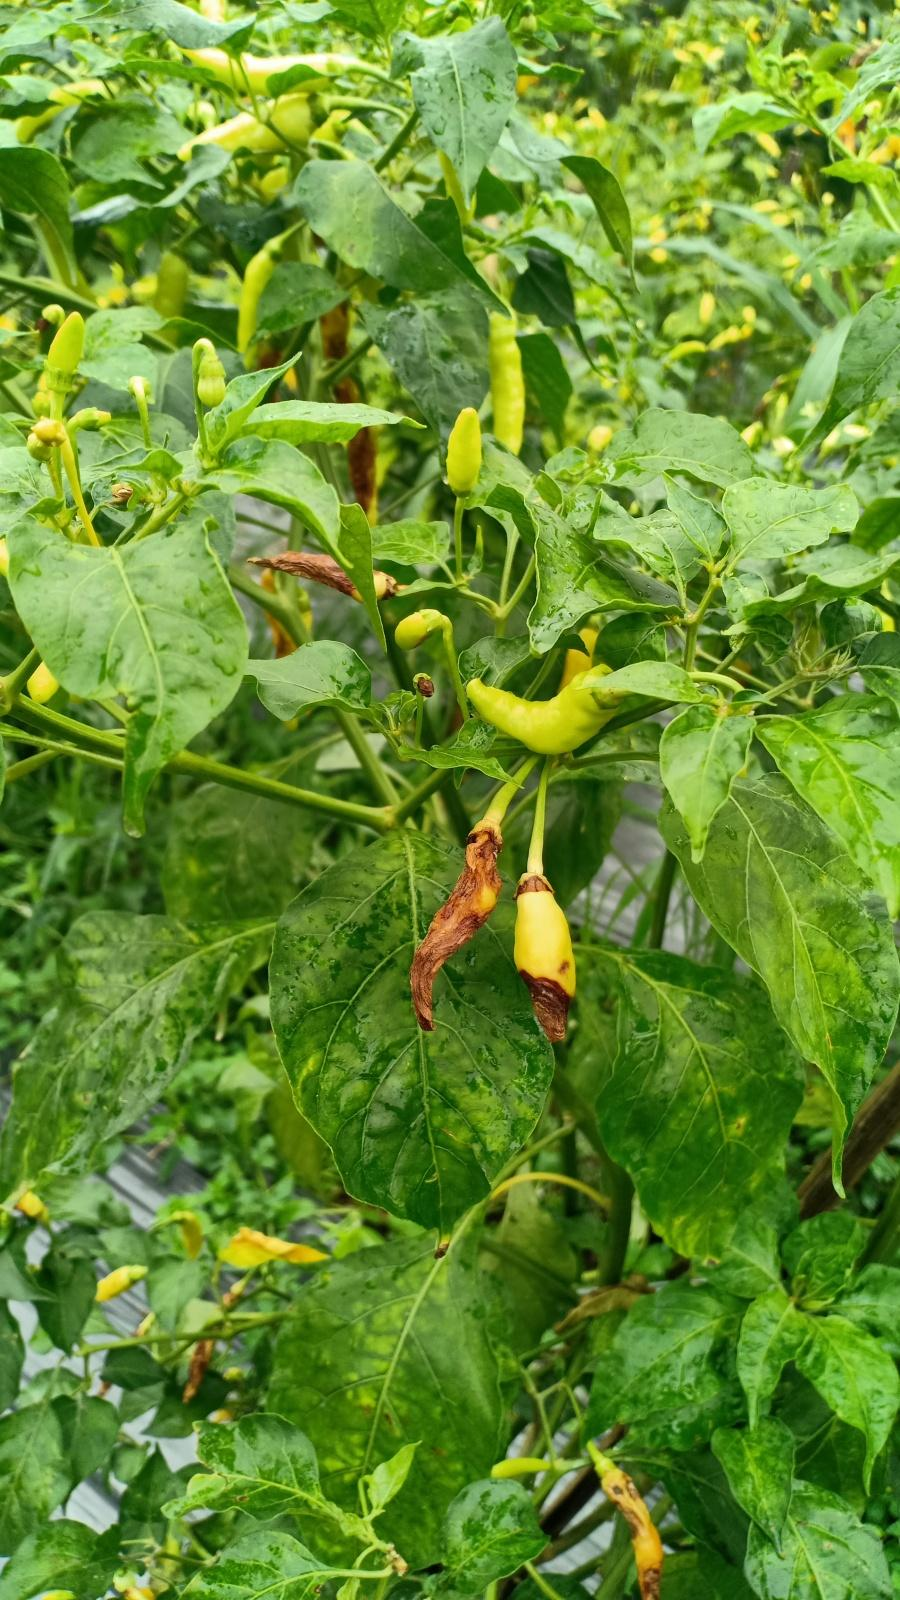antraknosa: (408, 830, 503, 1030), (513, 884, 577, 1045), (597, 1471, 676, 1597), (246, 547, 397, 605), (185, 1288, 235, 1400)
cabai_normal: (467, 663, 613, 755), (177, 91, 319, 159), (184, 47, 343, 96), (489, 311, 526, 456), (232, 249, 277, 353), (445, 407, 482, 489), (45, 311, 87, 373), (395, 608, 432, 651)
